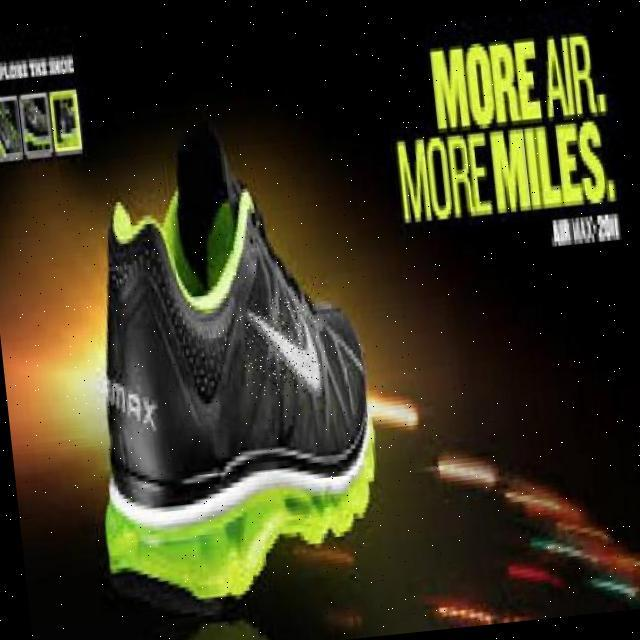Nike: (237, 294, 323, 399)
